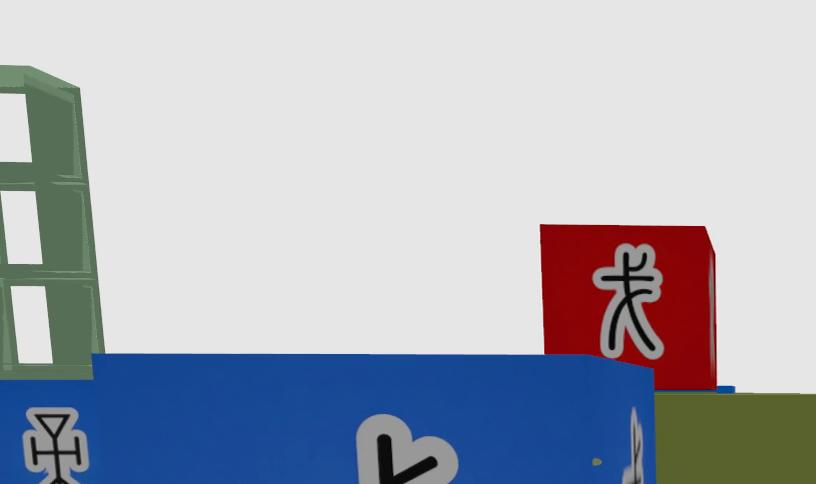KFS_FAKE: (540, 226, 716, 391), (594, 243, 663, 359)
KFS_REAL: (86, 354, 660, 484), (0, 380, 106, 484), (356, 414, 456, 484), (23, 407, 88, 484), (621, 410, 644, 484)
